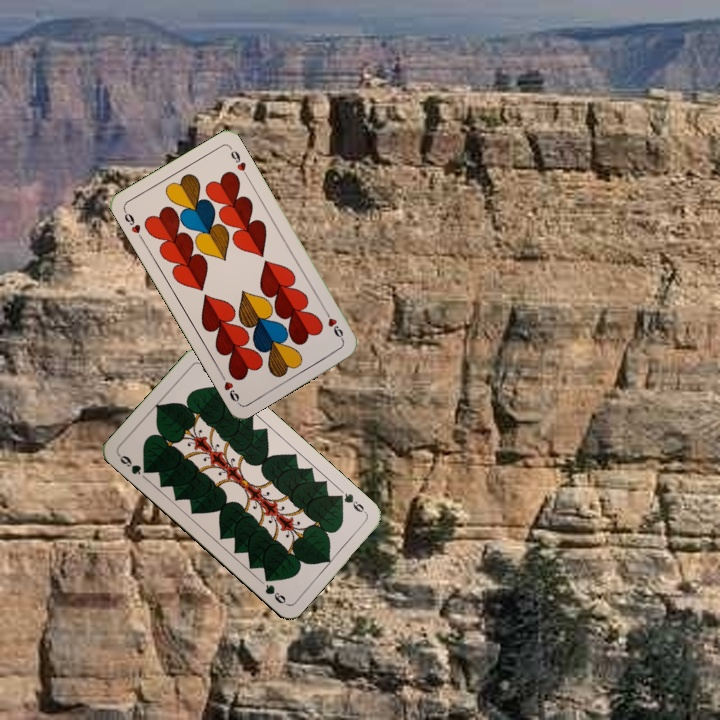G9: (114, 450, 152, 477), (333, 489, 369, 516)
H9: (120, 206, 146, 243), (321, 306, 346, 343)
